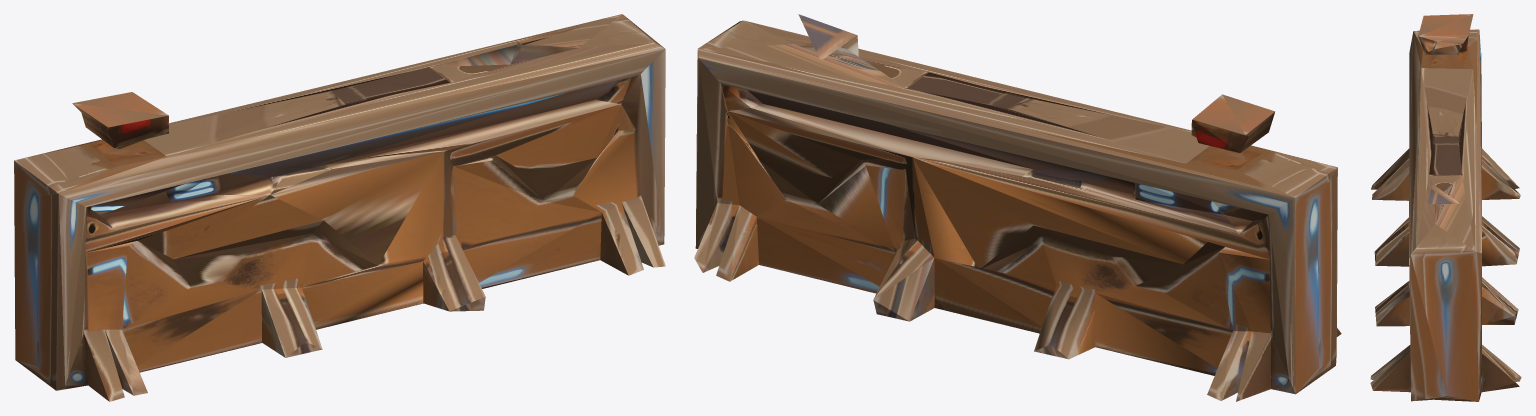
File: muro.fbx
3 renders of one model, left to right at view 1: azimuth 30°, elevation 25°; view 2: azimuth 150°, elevation 25°; view 3: azimuth 270°, elevation 25°, orthographic. The views are drawn at different scales.
Visible parts, largest first — view 1: tripo_node_e7c47234; view 2: tripo_node_e7c47234; view 3: tripo_node_e7c47234.
Part boxes in pixels (box(x1,y1,x2,y2)): tripo_node_e7c47234: box(14, 14, 665, 401); tripo_node_e7c47234: box(694, 14, 1341, 401); tripo_node_e7c47234: box(1370, 14, 1521, 401).
Bounding box in the file's own units: 99.61 × 39.04 × 28.53.
